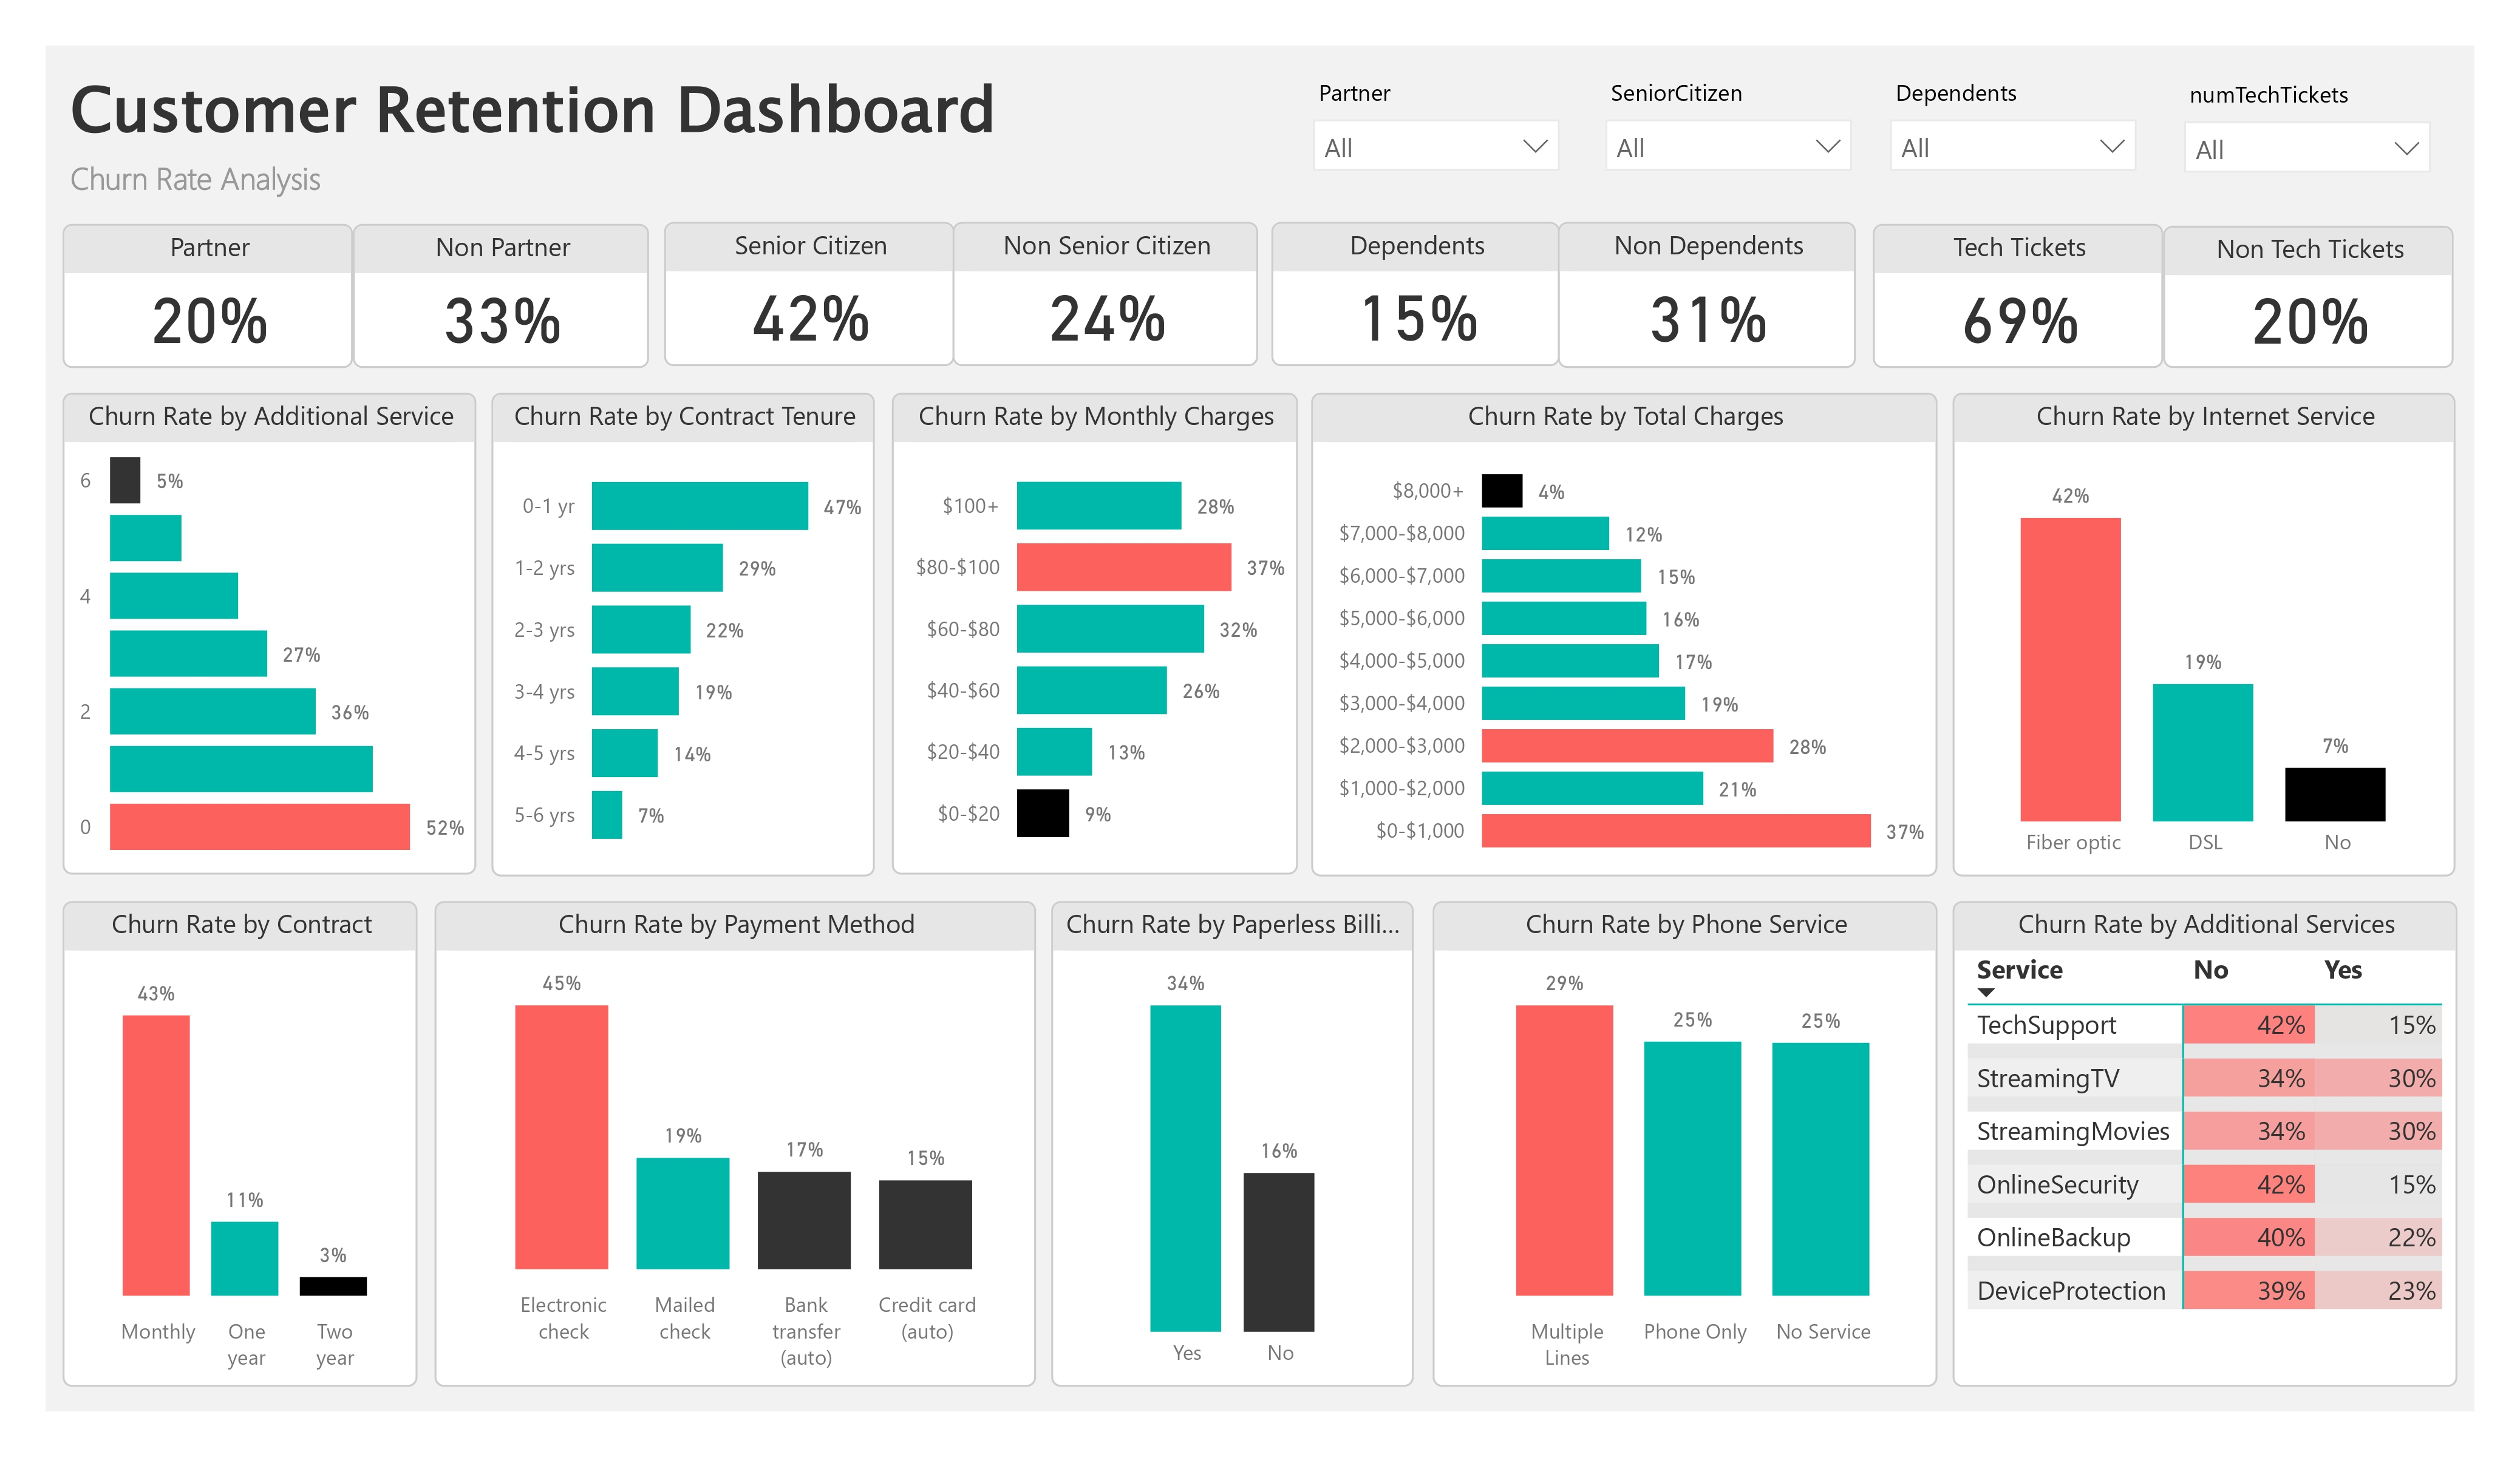

This screenshot's page, from the dashboard's own definition file:
{"tool":"powerbi","page":{"name":"Churn Rate Analysis","canvas":[1280,720],"ordinal":1},"visuals":[{"type":"clusteredBarChart","title":"Churn Rate by Additional Service","fields":{"Category":["01 Churn-Dataset.Additional Service Count"],"Y":["01 Churn-Dataset.Churn Rate"]},"box":[9.1,182.7,218.2,254.5],"z":0},{"type":"card","title":"Partner","fields":{"Values":["01 Churn-Dataset.Partner Churn Rate"]},"box":[9.2,93.8,153.1,76.2],"z":1000},{"type":"clusteredColumnChart","title":"Churn Rate by Internet Service","fields":{"Category":["01 Churn-Dataset.InternetService"],"Y":["01 Churn-Dataset.Churn Rate"]},"box":[1005,183,265,255],"z":2000},{"type":"clusteredBarChart","title":"Churn Rate by Contract Tenure","fields":{"Category":["01 Churn-Dataset.tenure (groups)"],"Y":["01 Churn-Dataset.Churn Rate"]},"box":[235.4,183.1,201.5,254.6],"z":3000},{"type":"clusteredColumnChart","title":"Churn Rate by Payment Method","fields":{"Category":["01 Churn-Dataset.PaymentMethod"],"Y":["01 Churn-Dataset.Churn Rate"]},"box":[205.5,450.9,316.4,256.4],"z":4000},{"type":"columnChart","title":"Churn Rate by Contract","fields":{"Category":["01 Churn-Dataset.Contract"],"Y":["01 Churn-Dataset.Churn Rate"]},"box":[9,451,187,256],"z":5000},{"type":"clusteredColumnChart","title":"Churn Rate by Phone Service","fields":{"Category":["01 Churn-Dataset.Phone Category"],"Y":["01 Churn-Dataset.Churn Rate"]},"box":[730.8,450.8,266.2,256.2],"z":6000},{"type":"pivotTable","title":"Churn Rate by Additional Services","fields":{"Rows":["Additional Services.Service"],"Values":["01 Churn-Dataset.Service Churn Rate"],"Columns":["Additional Services.Status"]},"box":[1005.4,450.8,265.4,256.2],"z":7000},{"type":"clusteredColumnChart","title":"Churn Rate by Paperless Billing","fields":{"Category":["01 Churn-Dataset.PaperlessBilling"],"Y":["01 Churn-Dataset.Churn Rate"]},"box":[530,451,191,256],"z":8000},{"type":"card","title":"Senior Citizen","fields":{"Values":["01 Churn-Dataset.Senior Citizen Churn Rate"]},"box":[325.6,93.2,153,76],"z":9000},{"type":"clusteredBarChart","title":"Churn Rate by Monthly Charges","fields":{"Y":["01 Churn-Dataset.Churn Rate"],"Category":["01 Churn-Dataset.Monthly Charge Group"]},"box":[445.7,182.9,214.3,254.3],"z":10000},{"type":"clusteredBarChart","title":"Churn Rate by Total Charges","fields":{"Y":["01 Churn-Dataset.Churn Rate"],"Category":["01 Churn-Dataset.Total Charges Group"]},"box":[667,183,330,255],"z":11000},{"type":"slicer","fields":{"Values":["01 Churn-Dataset.Partner"]},"box":[657.8,11.2,150,70],"z":12000},{"type":"slicer","fields":{"Values":["01 Churn-Dataset.SeniorCitizen"]},"box":[811.8,11.2,150,70],"z":13000},{"type":"slicer","fields":{"Values":["01 Churn-Dataset.Dependents"]},"box":[961.8,11.2,150,70],"z":14000},{"type":"textbox","title":"Customer Retention Analysis","box":[8.3,5,513.3,93.3],"z":15000},{"type":"card","title":"Non Partner","fields":{"Values":["Customer Churn Dataset.Non Partner Churn Rate"]},"box":[161.6,93.7,156.3,76.3],"z":16000},{"type":"card","title":"Non Senior Citizen","fields":{"Values":["Customer Churn Dataset.Non Senior Citizen Churn Rate"]},"box":[477.7,92.6,161,76.7],"z":17000},{"type":"card","title":"Dependents","fields":{"Values":["Customer Churn Dataset.Dependents Churn Rate"]},"box":[645.5,92.9,152.2,76.1],"z":18000},{"type":"card","title":"Non Dependents","fields":{"Values":["Customer Churn Dataset.Non Dependents Churn Rate"]},"box":[796.7,92.9,157.1,76.7],"z":19000},{"type":"card","title":"Tech Tickets","fields":{"Values":["Customer Churn Dataset.TechTickets Churn Rate"]},"box":[962.9,94.3,153.6,75.7],"z":20000},{"type":"card","title":"Non Tech Tickets","fields":{"Values":["Customer Churn Dataset.Non TechTickets Churn Rate"]},"box":[1116,94.5,153,75.5],"z":21000},{"type":"slicer","fields":{"Values":["Customer Churn Dataset.numTechTickets"]},"box":[1117.3,11.5,150,70],"z":22000}]}

Visuals, with their boxes on the page's 1280x720 design canvas (x1, y1, x2, y2). These are canvas units, not pixel positions in the 2520x1457 screenshot, which may show the page scaled, cropped or inside an application window:
"Churn Rate by Additional Service" clusteredBarChart: bbox=[9, 183, 227, 437]
"Partner" card: bbox=[9, 94, 162, 170]
"Churn Rate by Internet Service" clusteredColumnChart: bbox=[1005, 183, 1270, 438]
"Churn Rate by Contract Tenure" clusteredBarChart: bbox=[235, 183, 437, 438]
"Churn Rate by Payment Method" clusteredColumnChart: bbox=[206, 451, 522, 707]
"Churn Rate by Contract" columnChart: bbox=[9, 451, 196, 707]
"Churn Rate by Phone Service" clusteredColumnChart: bbox=[731, 451, 997, 707]
"Churn Rate by Additional Services" pivotTable: bbox=[1005, 451, 1271, 707]
"Churn Rate by Paperless Billing" clusteredColumnChart: bbox=[530, 451, 721, 707]
"Senior Citizen" card: bbox=[326, 93, 479, 169]
"Churn Rate by Monthly Charges" clusteredBarChart: bbox=[446, 183, 660, 437]
"Churn Rate by Total Charges" clusteredBarChart: bbox=[667, 183, 997, 438]
slicer - 01 Churn-Dataset.Partner: bbox=[658, 11, 808, 81]
slicer - 01 Churn-Dataset.SeniorCitizen: bbox=[812, 11, 962, 81]
slicer - 01 Churn-Dataset.Dependents: bbox=[962, 11, 1112, 81]
"Customer Retention Analysis" textbox: bbox=[8, 5, 522, 98]
"Non Partner" card: bbox=[162, 94, 318, 170]
"Non Senior Citizen" card: bbox=[478, 93, 639, 169]
"Dependents" card: bbox=[646, 93, 798, 169]
"Non Dependents" card: bbox=[797, 93, 954, 170]
"Tech Tickets" card: bbox=[963, 94, 1116, 170]
"Non Tech Tickets" card: bbox=[1116, 94, 1269, 170]
slicer - Customer Churn Dataset.numTechTickets: bbox=[1117, 12, 1267, 82]
